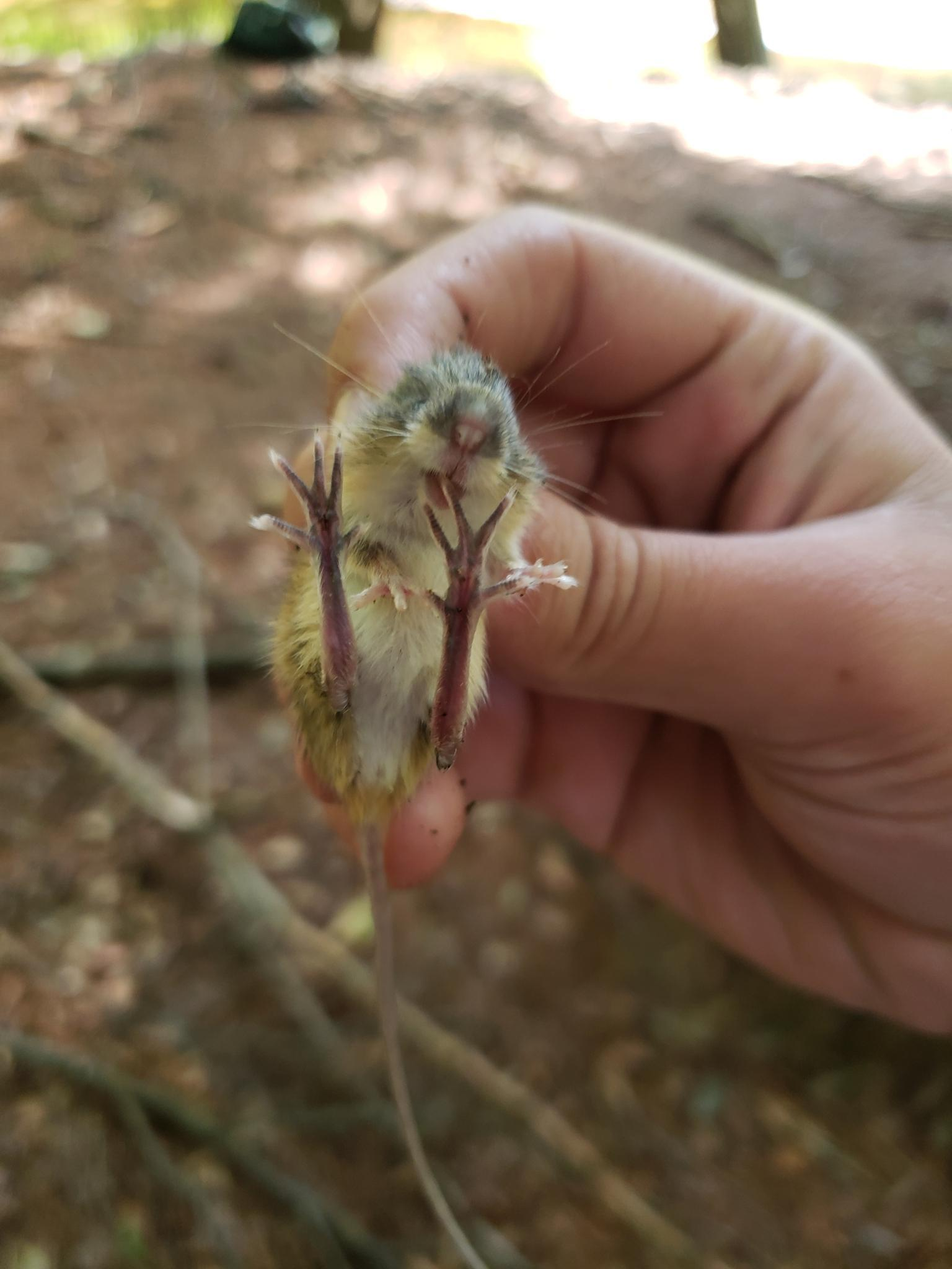rat: (256, 341, 577, 807)
